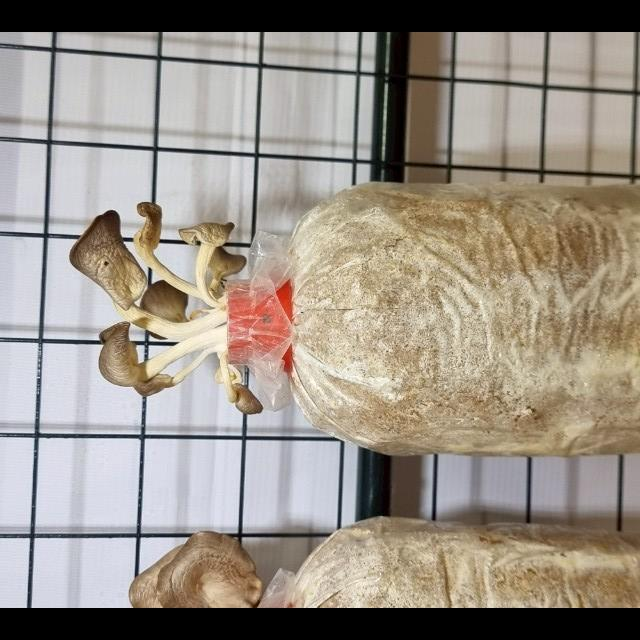abnormal: (68, 225, 237, 320), (133, 204, 232, 314), (83, 325, 227, 385), (187, 220, 267, 300), (213, 354, 260, 429)
